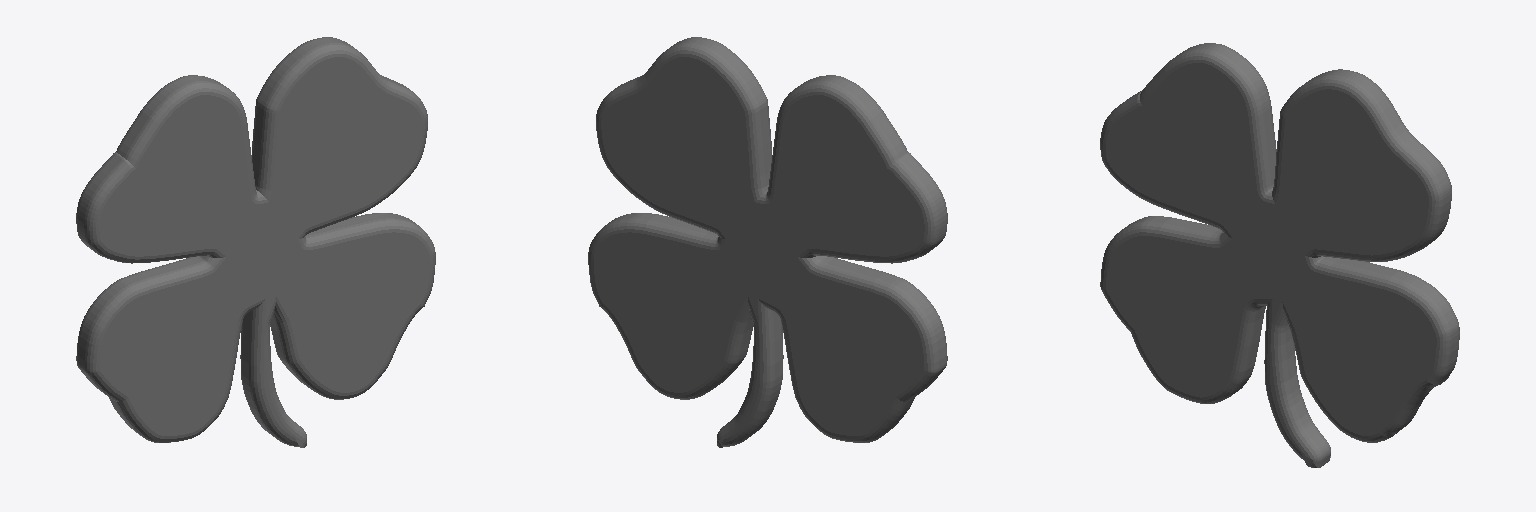
The model's file is Trebol.obj.
3 renders of one model, left to right at view 1: azimuth 30°, elevation 25°; view 2: azimuth 150°, elevation 25°; view 3: azimuth 330°, elevation 25°, orthographic.
Visible parts, largest first — view 1: Four_Leaf_Clover; view 2: Four_Leaf_Clover; view 3: Four_Leaf_Clover.
Boxes of the visible parts, x1,y1,x2,y2 form: Four_Leaf_Clover: [76, 37, 435, 447]; Four_Leaf_Clover: [588, 37, 947, 447]; Four_Leaf_Clover: [1100, 43, 1459, 467].
Bounding box in the file's own units: 19.84 × 21.47 × 1.74.